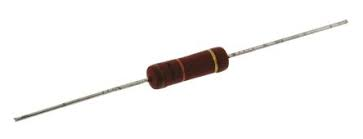resistor: (128, 22, 245, 108)
